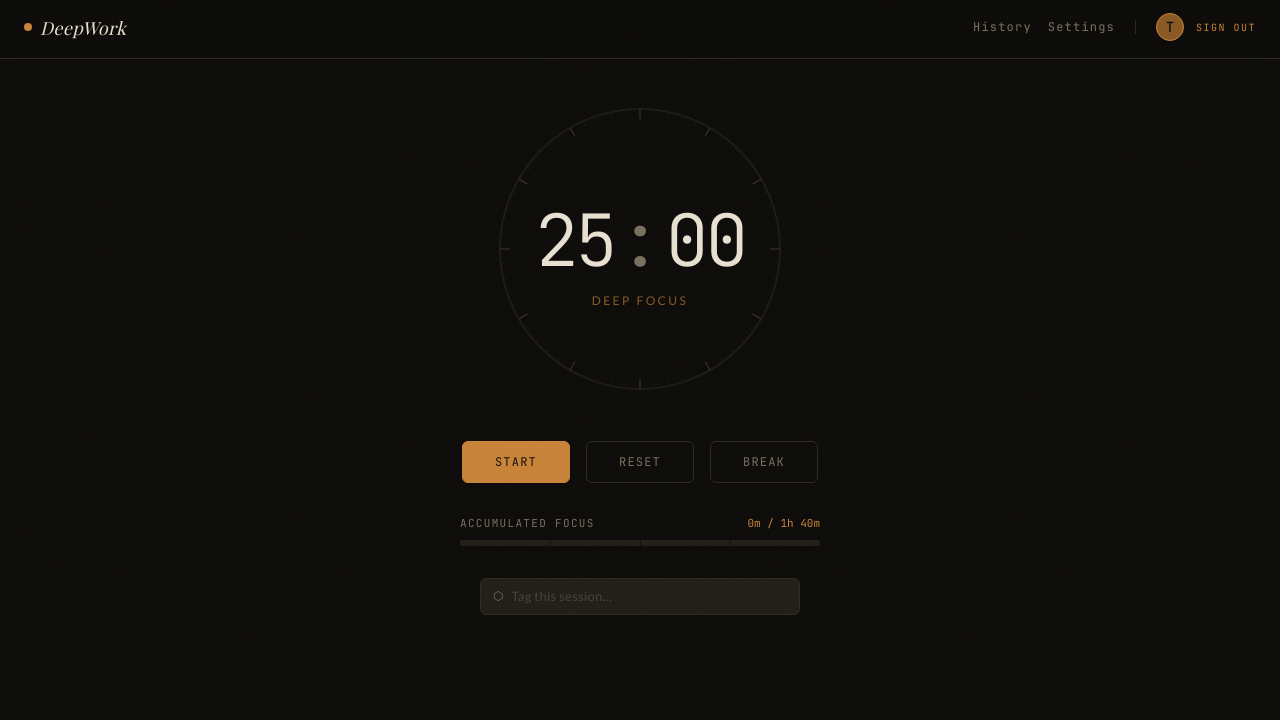
TimerWidget Tag Autocomplete UI › should update input when autocomplete suggestion is clicked
Step 1. Focus the field with placeholder "Tag this session…" → (649, 596), box [512,586,787,606]
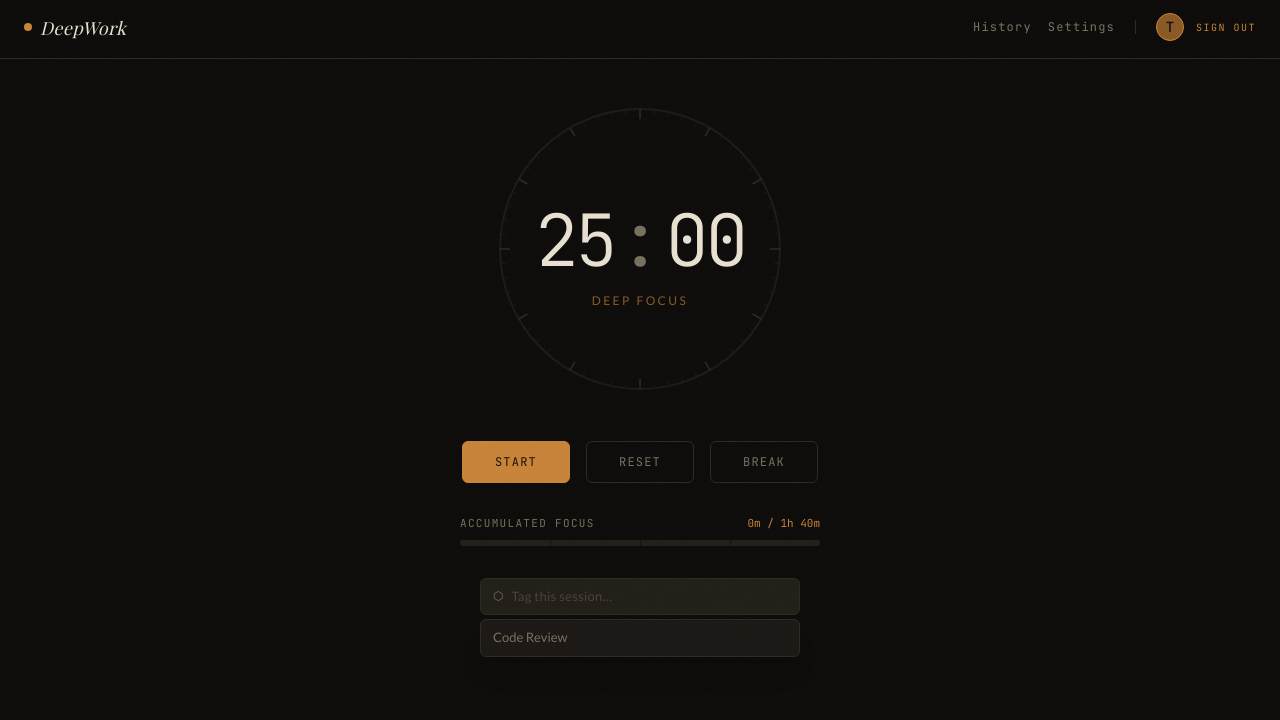
Expected: the text "Code Review" is shown, [493,628,568,648]
Step 2. Click the button "Code Review" → (530, 637), box [481,620,799,656]
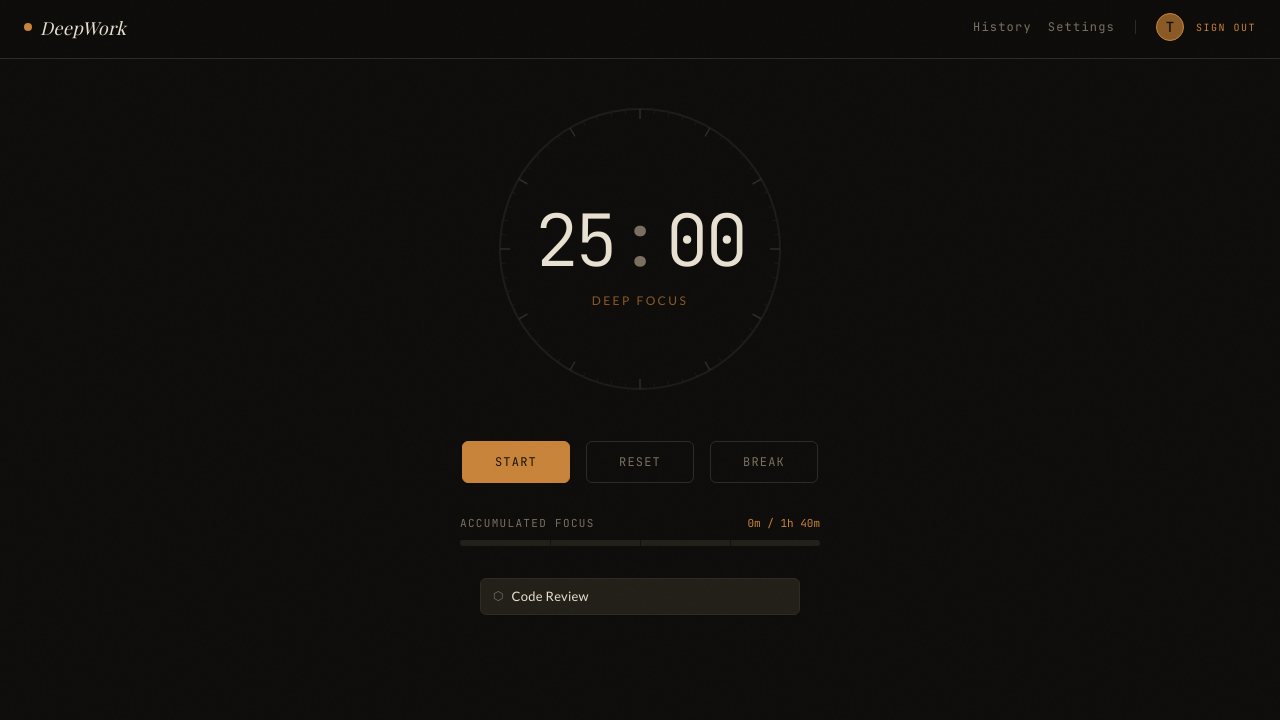
Expected: the field with placeholder "Tag this session…" holds "Code Review", [512,586,787,606]
